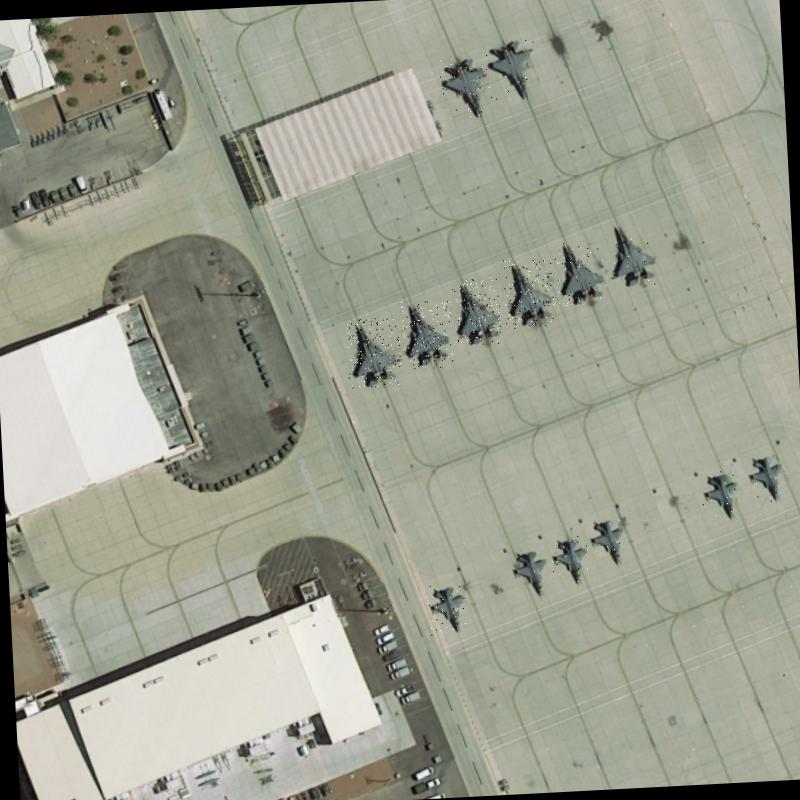A13: (346, 317, 403, 389), (503, 258, 556, 329), (554, 238, 607, 307), (401, 300, 453, 370), (609, 220, 659, 289), (452, 277, 502, 346), (440, 55, 490, 122), (486, 37, 536, 101)
A5: (510, 546, 551, 601), (426, 582, 466, 636), (701, 469, 741, 522), (746, 452, 785, 505), (551, 535, 590, 588), (588, 518, 628, 566)
